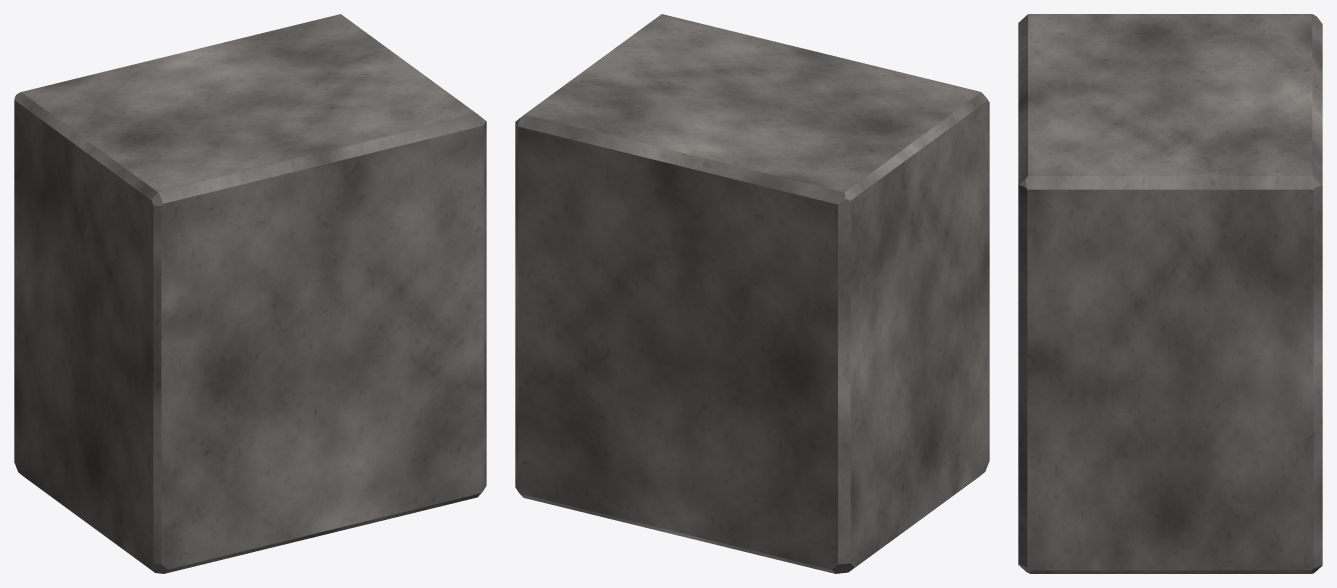
File: limestone-block-02.glb
The picture shows the model from 3 angles, left to right: view 1: azimuth 30°, elevation 25°; view 2: azimuth 150°, elevation 25°; view 3: azimuth 270°, elevation 25°; orthographic projection. The views are drawn at different scales.
Parts seen in each view (by area): view 1: limestone-block-02; view 2: limestone-block-02; view 3: limestone-block-02.
Part boxes in pixels (left/top/right/bottom): limestone-block-02: left=14, top=14, right=486, bottom=573; limestone-block-02: left=515, top=14, right=989, bottom=573; limestone-block-02: left=1018, top=14, right=1322, bottom=573.
Size of the model in its own units: 0.28 by 0.3058 by 0.2123.
1 material, 1 textured.
